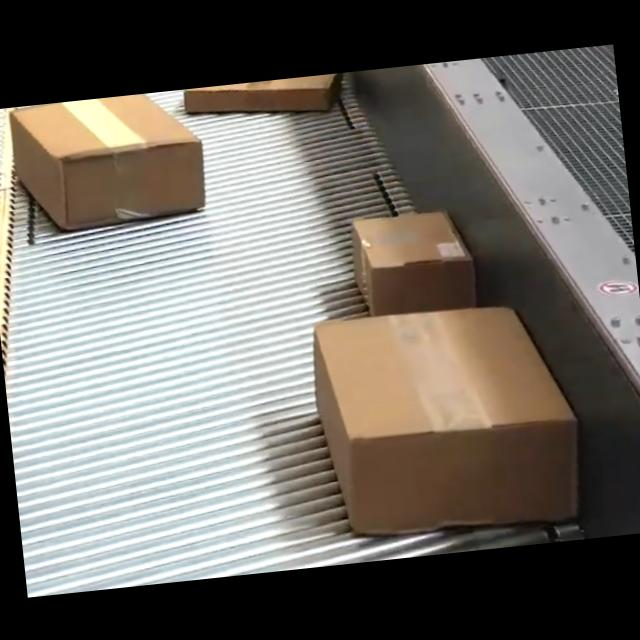box: (305, 293, 589, 548), (6, 87, 209, 240), (347, 204, 479, 316), (182, 71, 348, 120)
